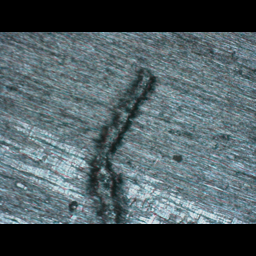d: (68, 66, 161, 223)
